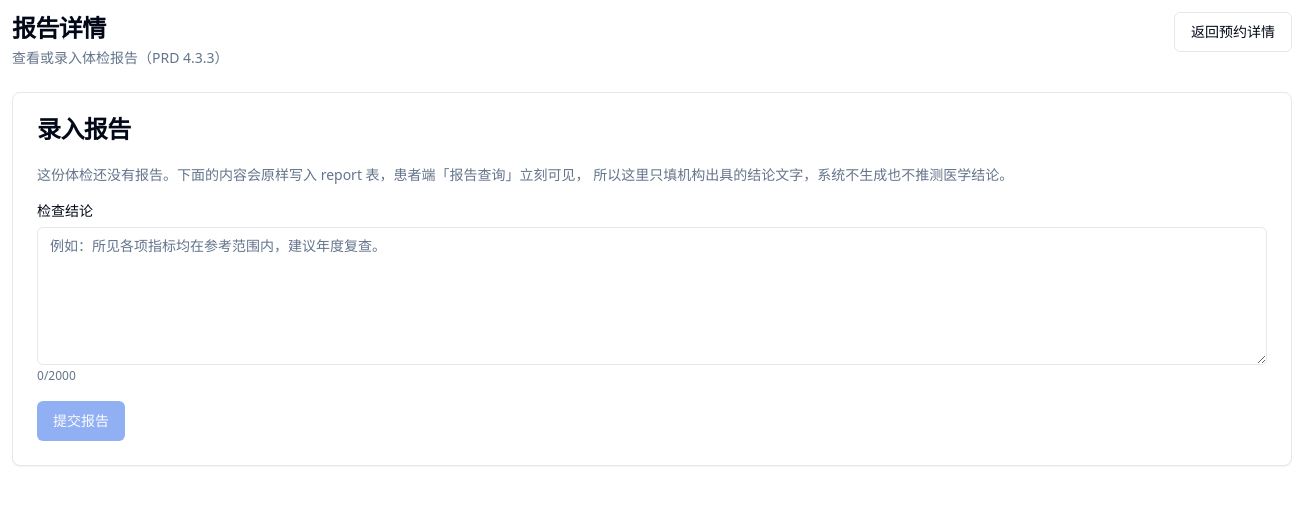
Test: PhysicalReportPage › 还没录入时给表单，提交后按 PRD 的录入语义把结论交给后端
Check: the button "提交报告" is disabled, box [37,401,125,441]
In the text box: [652, 296] box [37,227,1267,365], type "各项指标未见异常"
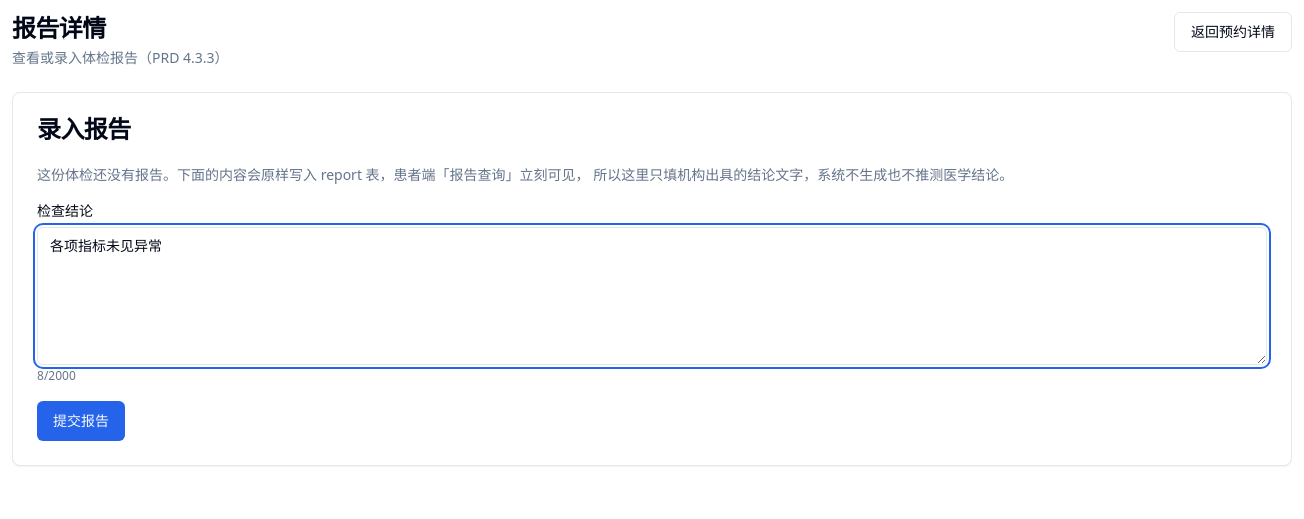
Click the button "提交报告": [81, 421] box [37,401,125,441]
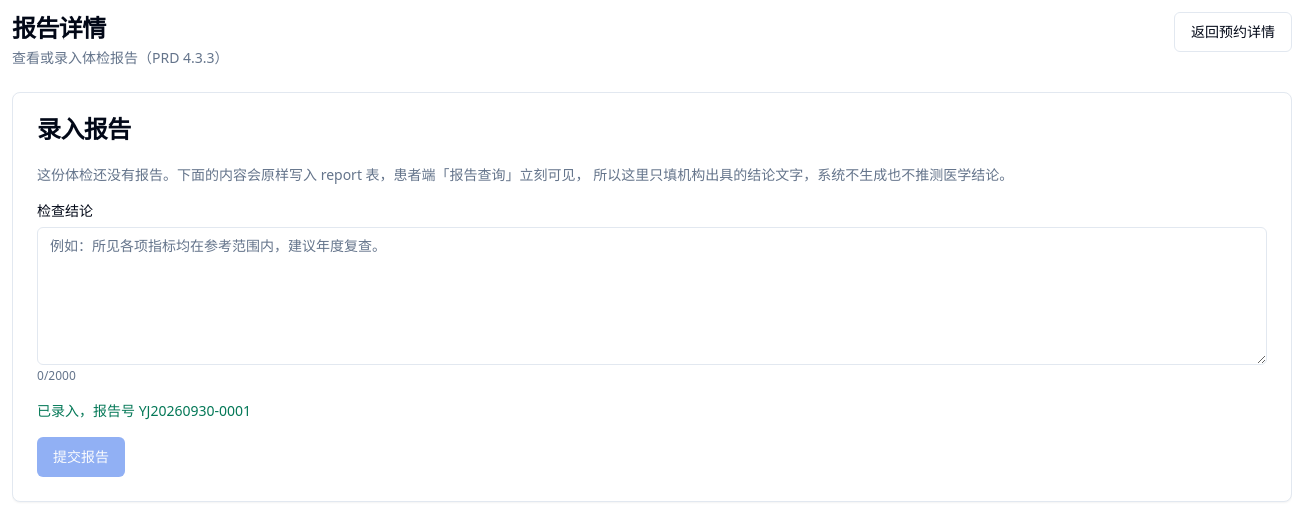
Check: the text "已录入，报告号 YJ20260930-0001" is shown, box [37,401,251,420]
